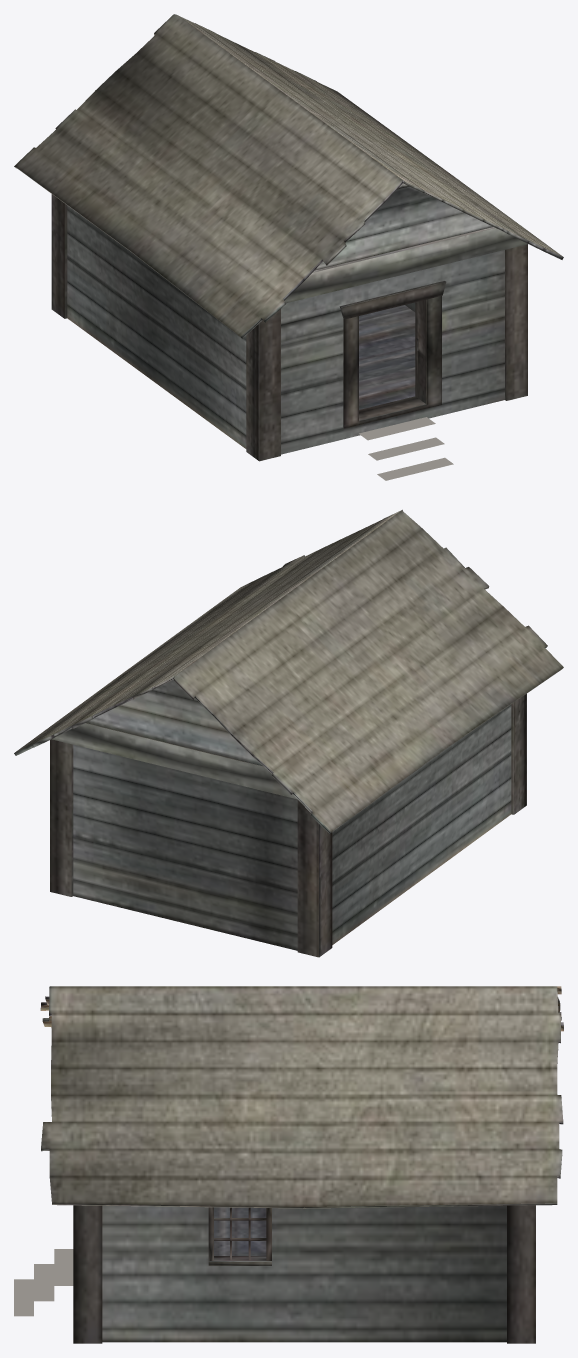
File: old-hut.zfix-v1.lod1.glb
3 views of the same model, one above another, from view 1: azimuth 30°, elevation 25°; view 2: azimuth 150°, elevation 25°; view 3: azimuth 270°, elevation 25° (orthographic). The views are drawn at different scales.
Parts seen in each view (by area): view 1: hut_T_hUT_0, Walkable floors and stairs; view 2: hut_T_hUT_0; view 3: hut_T_hUT_0, Walkable floors and stairs.
Part boxes in pixels (bbox=[...]): hut_T_hUT_0: bbox=[14, 14, 563, 461]; Walkable floors and stairs: bbox=[359, 417, 453, 480]; hut_T_hUT_0: bbox=[14, 509, 563, 957]; hut_T_hUT_0: bbox=[40, 986, 563, 1343]; Walkable floors and stairs: bbox=[14, 1249, 73, 1316].
Bounding box in the file's own units: 6.25 × 5.13 × 8.2.
Materials: 2 (1 with a texture image).
